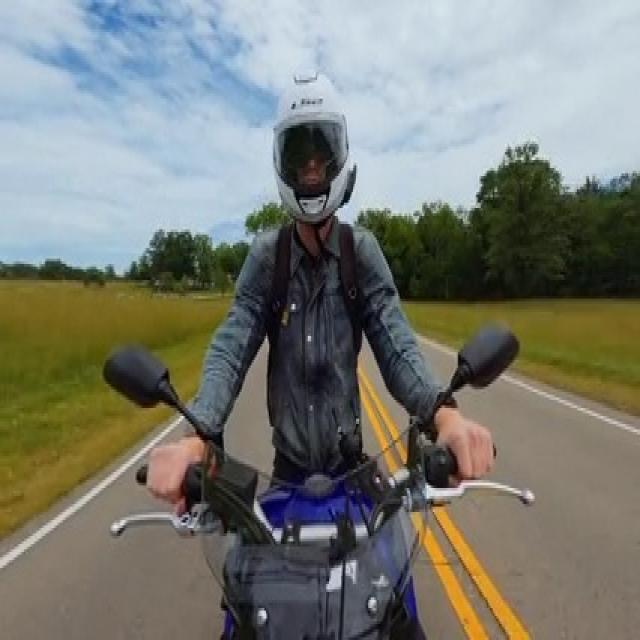Helmet_Wearer: (264, 58, 365, 237)
Person: (170, 46, 493, 494)
